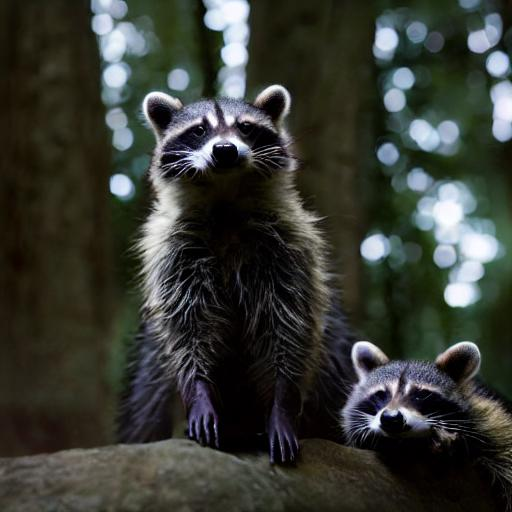raccoon: (112, 71, 347, 436), (335, 333, 512, 473)
